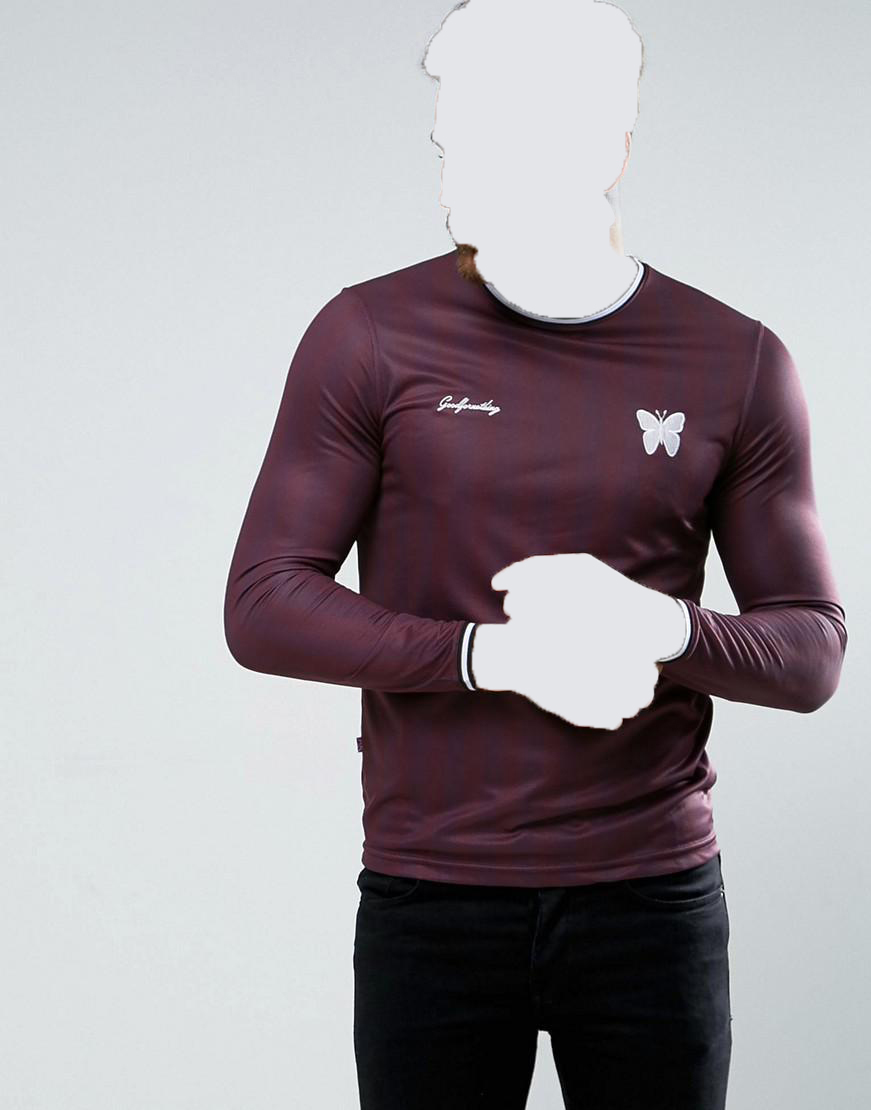teeshirt: (220, 247, 851, 898)
